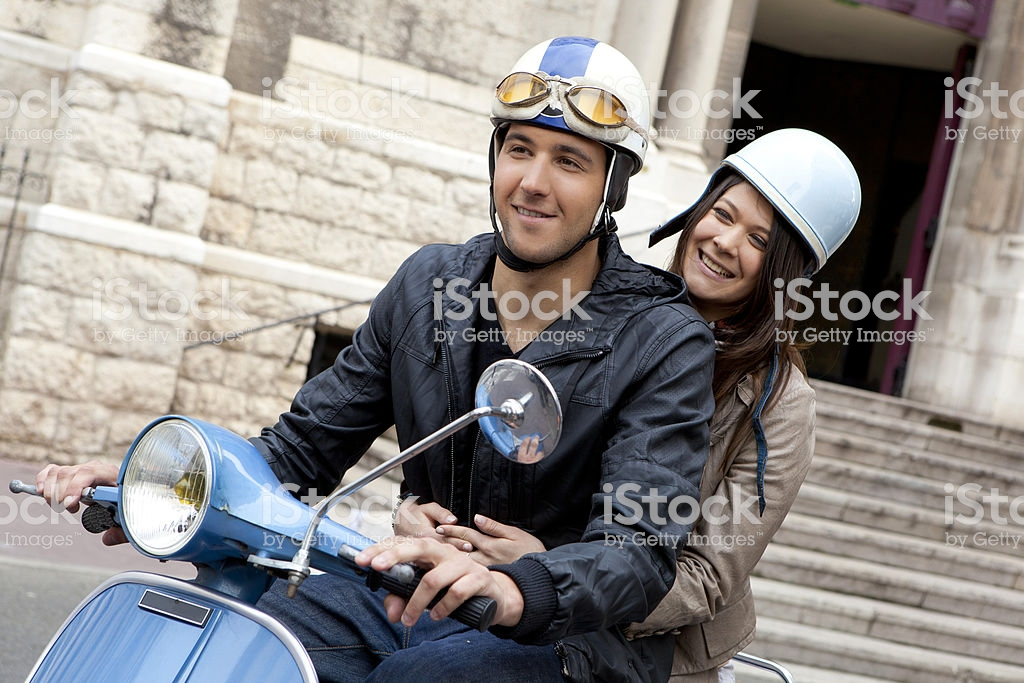helmet: (502, 28, 647, 170), (736, 122, 868, 270)
